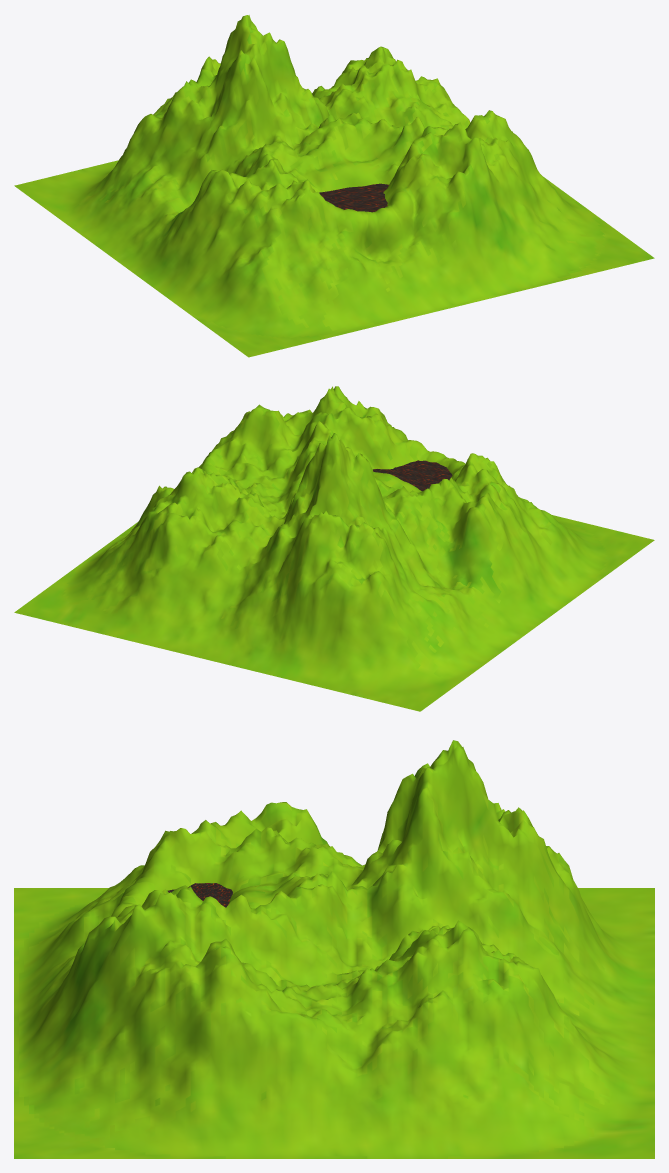
The model's file is map-1-mountain-volcano.fbx.
3 views of the same model, one above another, from view 1: azimuth 30°, elevation 25°; view 2: azimuth 150°, elevation 25°; view 3: azimuth 270°, elevation 25° (orthographic). The views are drawn at different scales.
Parts seen in each view (by area): view 1: volcano, lava; view 2: volcano, lava; view 3: volcano, lava.
Boxes of the visible parts, box(x1,y1,x2,y2) form: volcano: box(14, 15, 654, 357); lava: box(319, 183, 388, 212); volcano: box(14, 386, 654, 711); lava: box(373, 460, 452, 491); volcano: box(14, 740, 654, 1158); lava: box(167, 883, 232, 907).
Bounding box in the file's own units: 76800 × 33588 × 76800.
